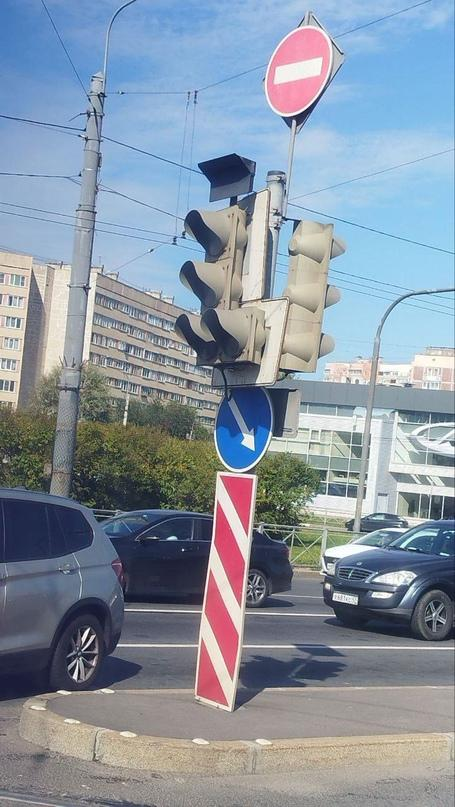off traffic light: (175, 204, 266, 369), (275, 219, 347, 374), (198, 153, 257, 203)
road_sign: (195, 473, 255, 711), (266, 26, 335, 118), (215, 387, 272, 471)
